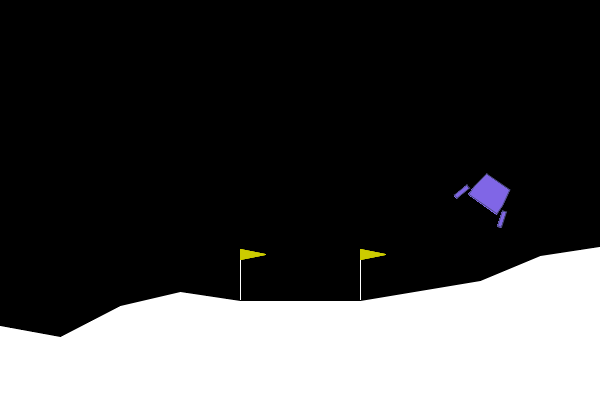lander: (452, 163, 524, 230)
